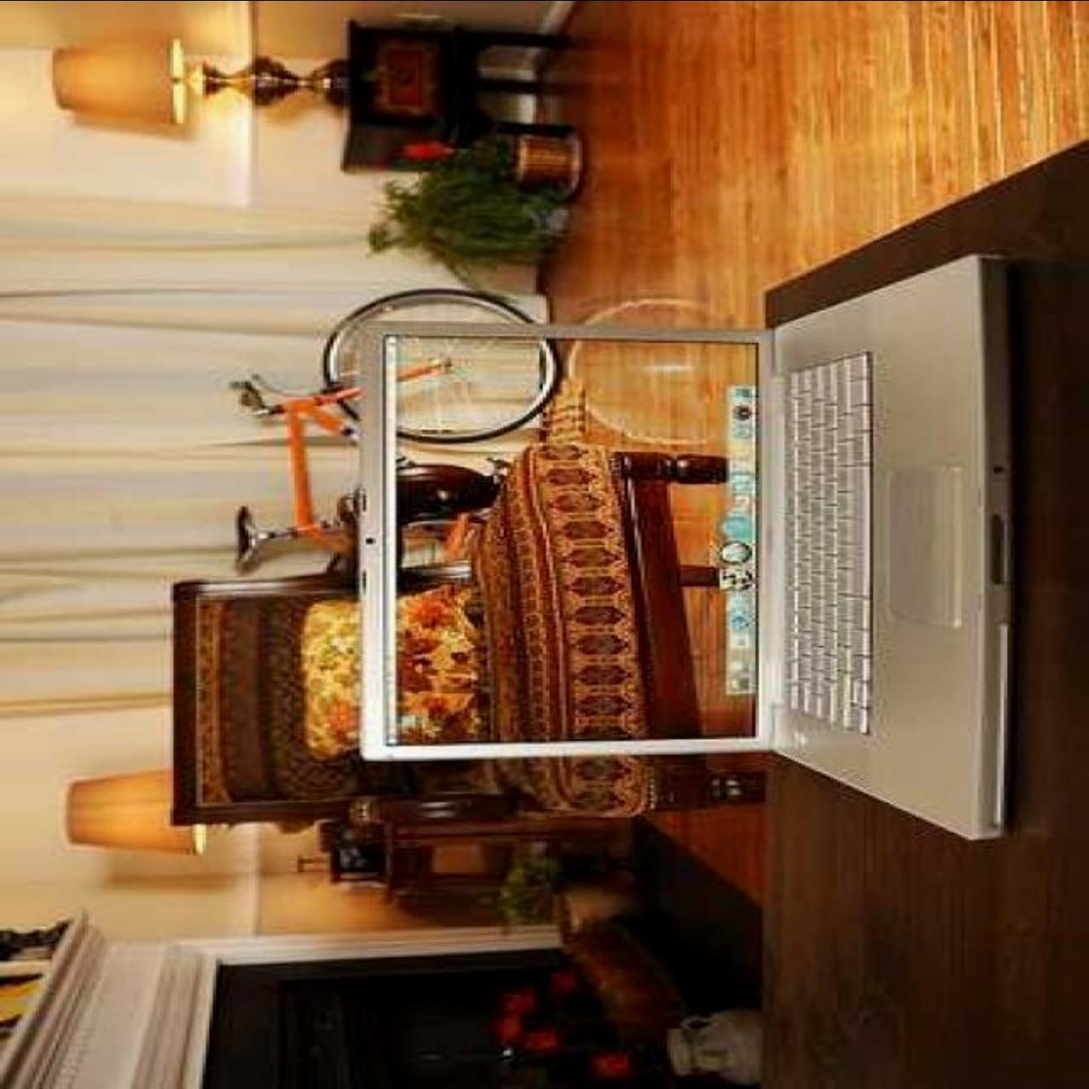laptop: (365, 289, 1068, 834)
